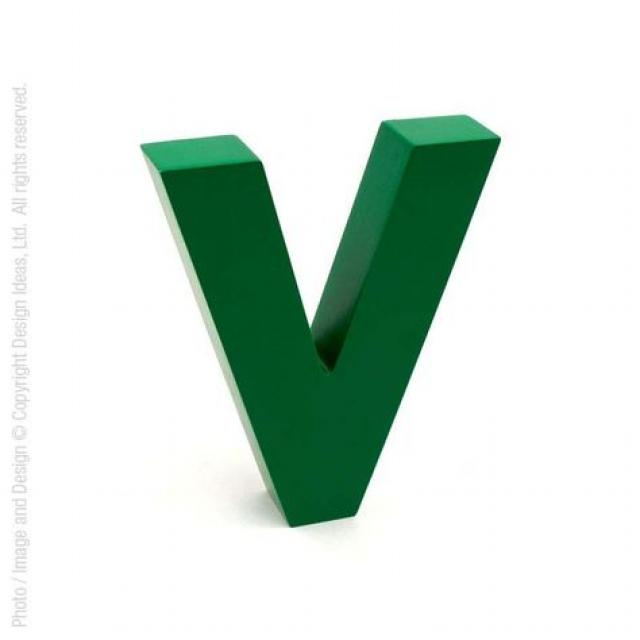V: (108, 76, 513, 571)
